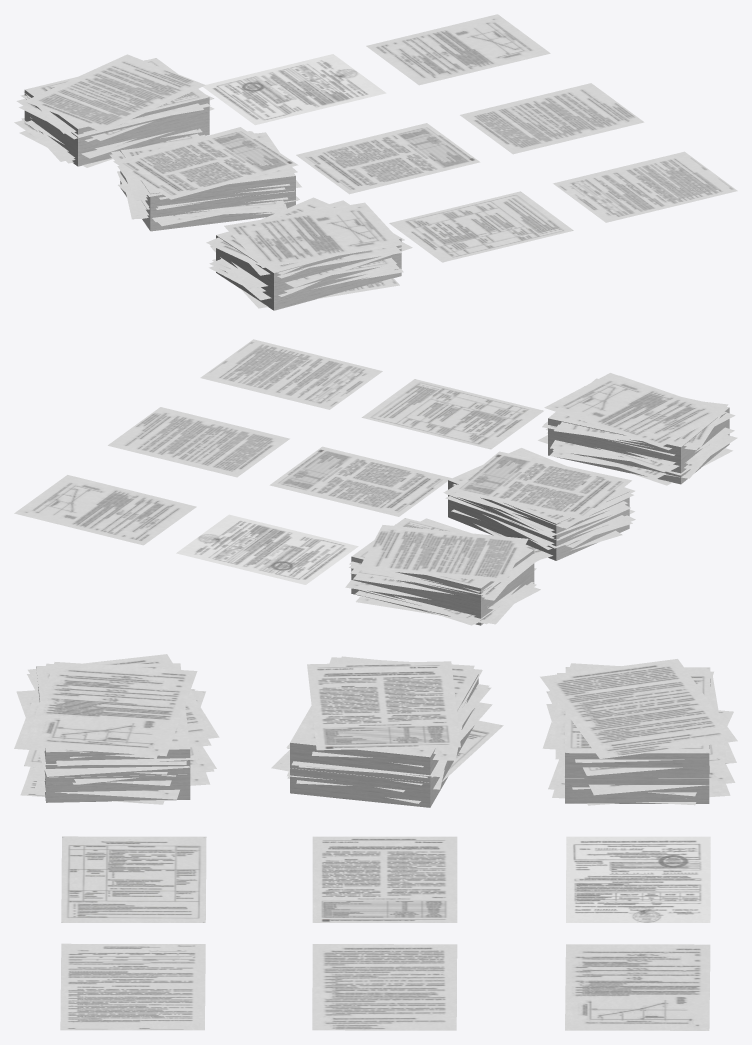
File: low-poly_papers_set.glb
The picture shows the model from 3 angles, top to bottom: view 1: azimuth 30°, elevation 25°; view 2: azimuth 150°, elevation 25°; view 3: azimuth 270°, elevation 25°; orthographic projection. The views are drawn at different scales.
Visible parts, largest first — view 1: Object_2; view 2: Object_2; view 3: Object_2.
Boxes of the visible parts, box(x1,y1,x2,y2) form: Object_2: box(14, 14, 737, 310); Object_2: box(14, 339, 737, 625); Object_2: box(14, 654, 737, 1030).
Size of the model in its own units: 24.02 by 1.89 by 22.58.
Materials: 1 (1 with a texture image).
